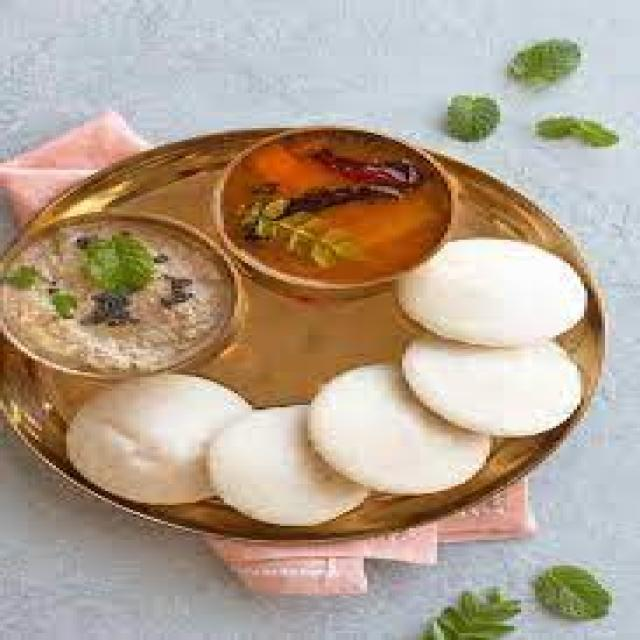Wet Waste: (3, 214, 231, 368), (297, 361, 497, 488), (63, 372, 252, 503), (206, 400, 385, 526), (395, 231, 588, 342), (402, 321, 584, 433)
